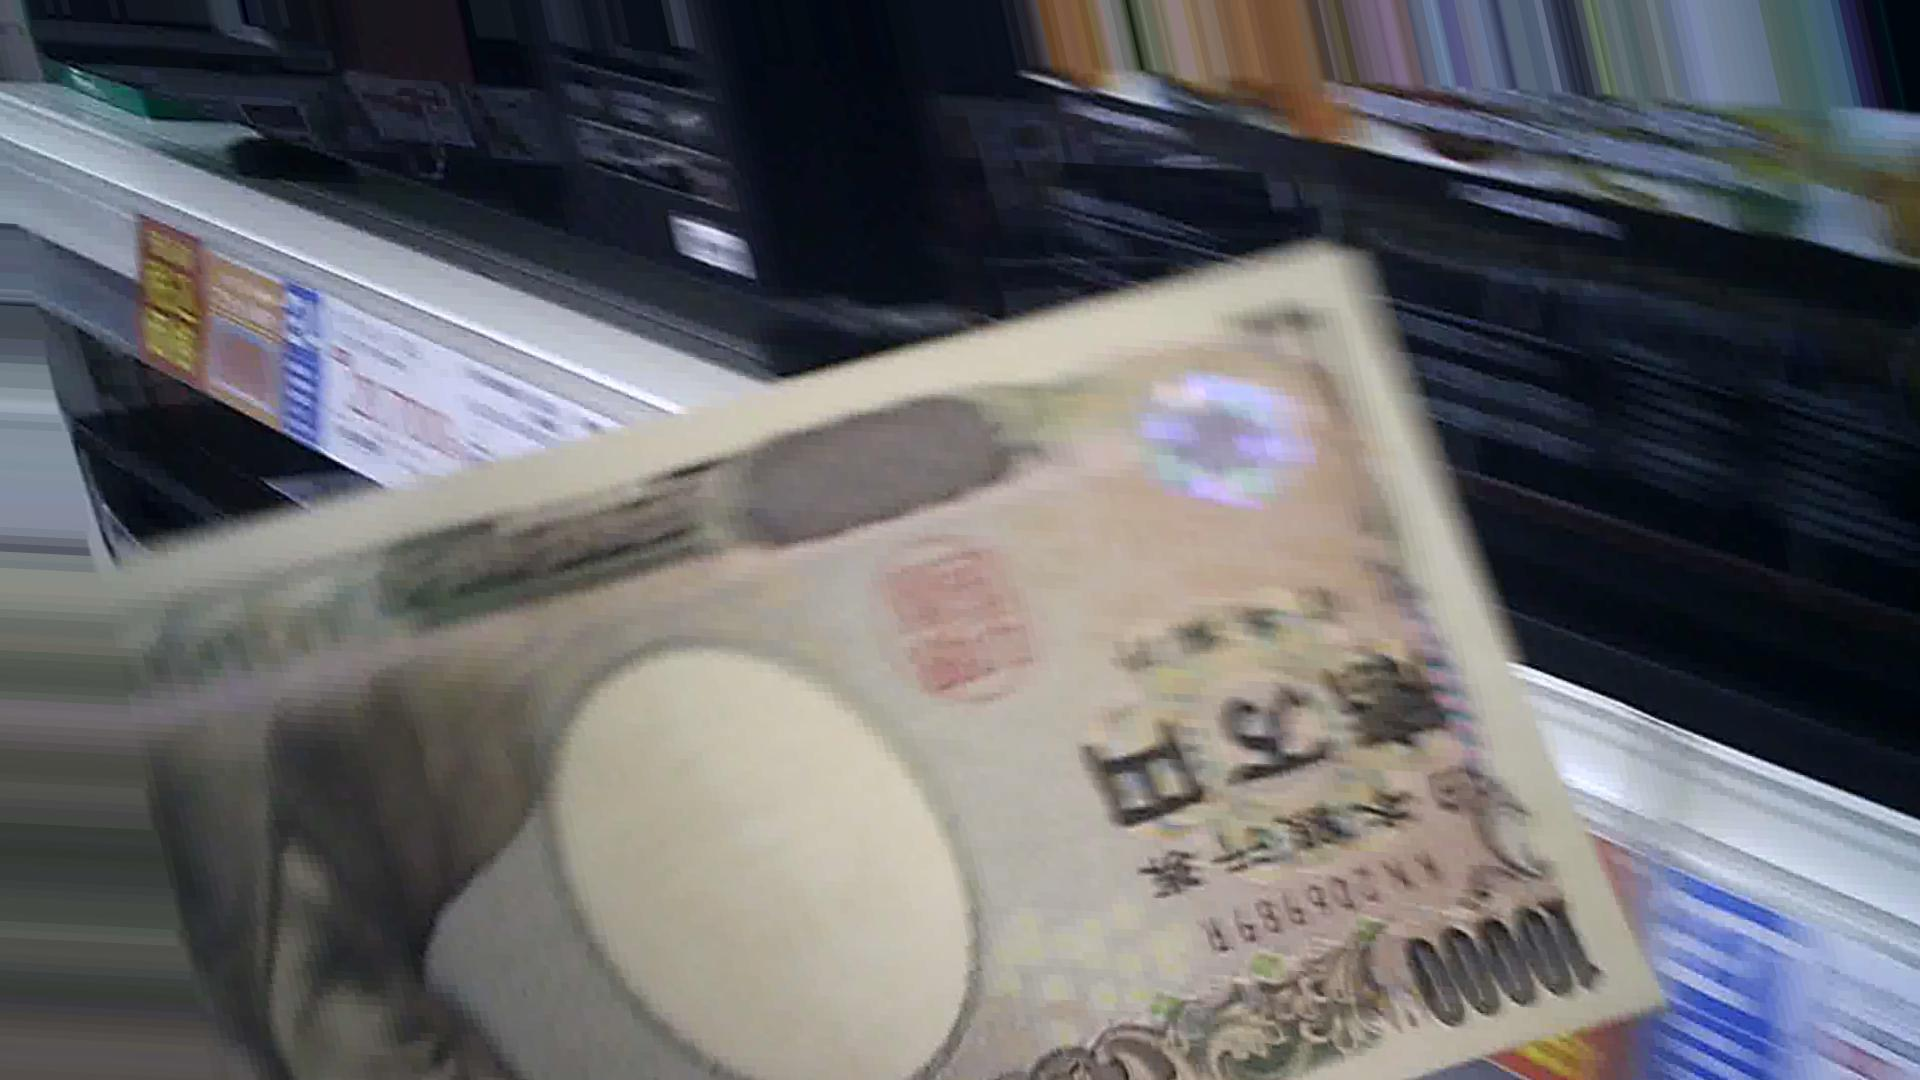10,000 Yen: (182, 286, 1677, 1079)
